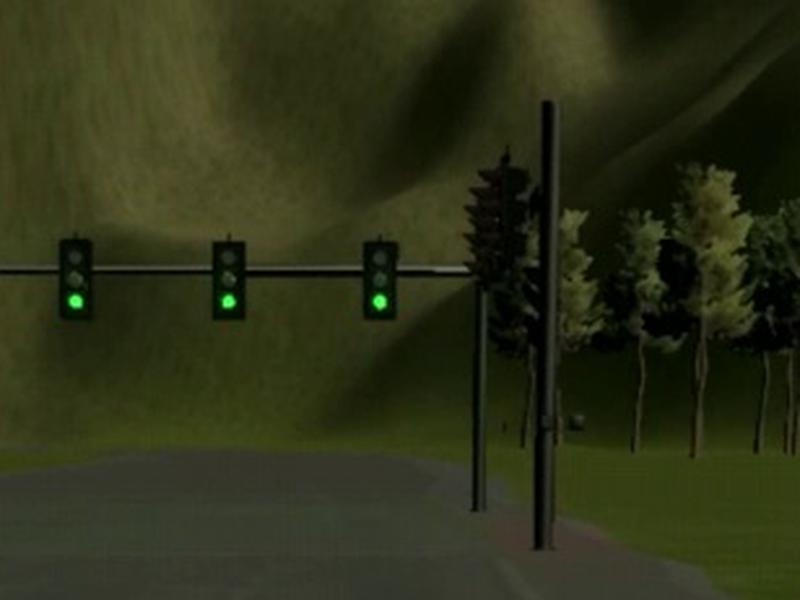Green: (57, 239, 92, 321), (361, 241, 397, 320), (213, 240, 246, 321)
